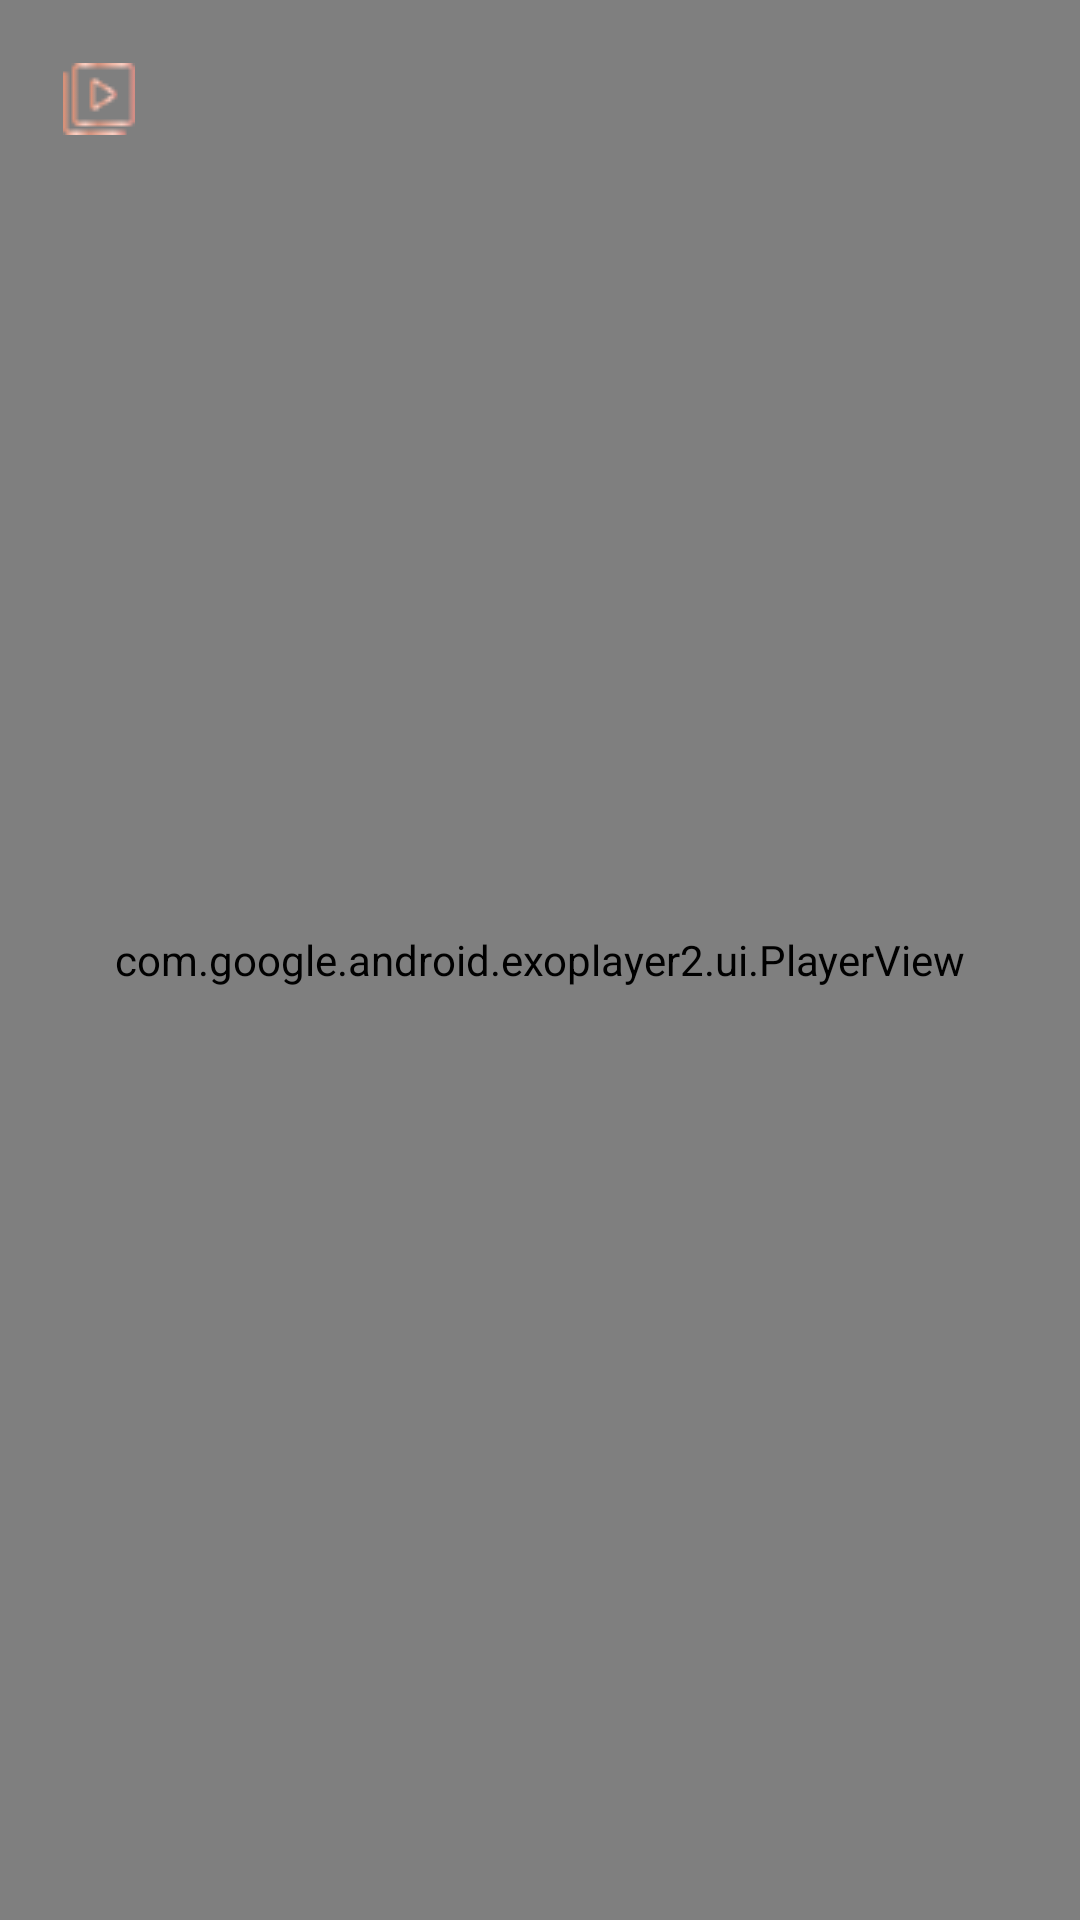

Where icons sit on this 1080px×1920px app screen, as {"left": x1, "top": y1, "right": x2, "bottom": y2}:
video: {"left": 63, "top": 63, "right": 135, "bottom": 135}
